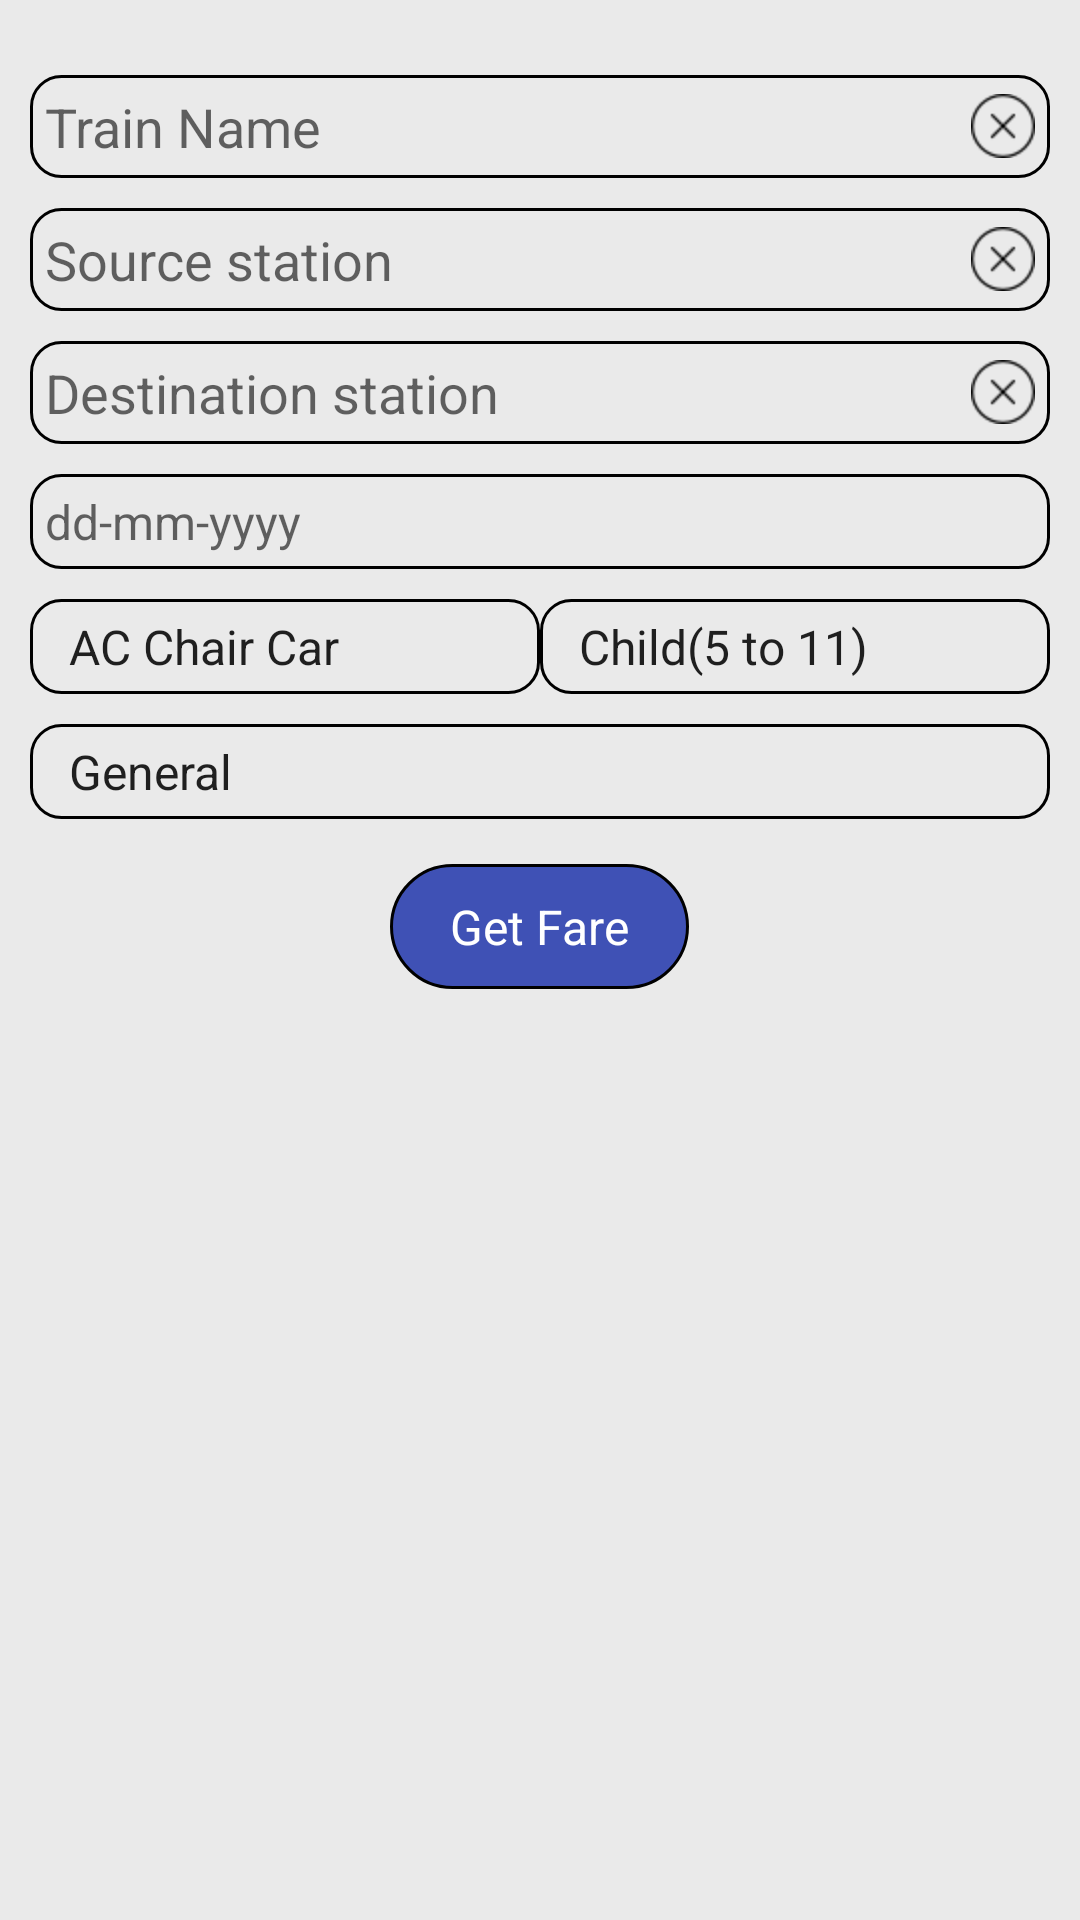

Screen size 1080 x 1920. Icon name, then its center in pixels as point (x, y):
cross: point (1003, 126), point (1003, 259), point (1003, 392)
